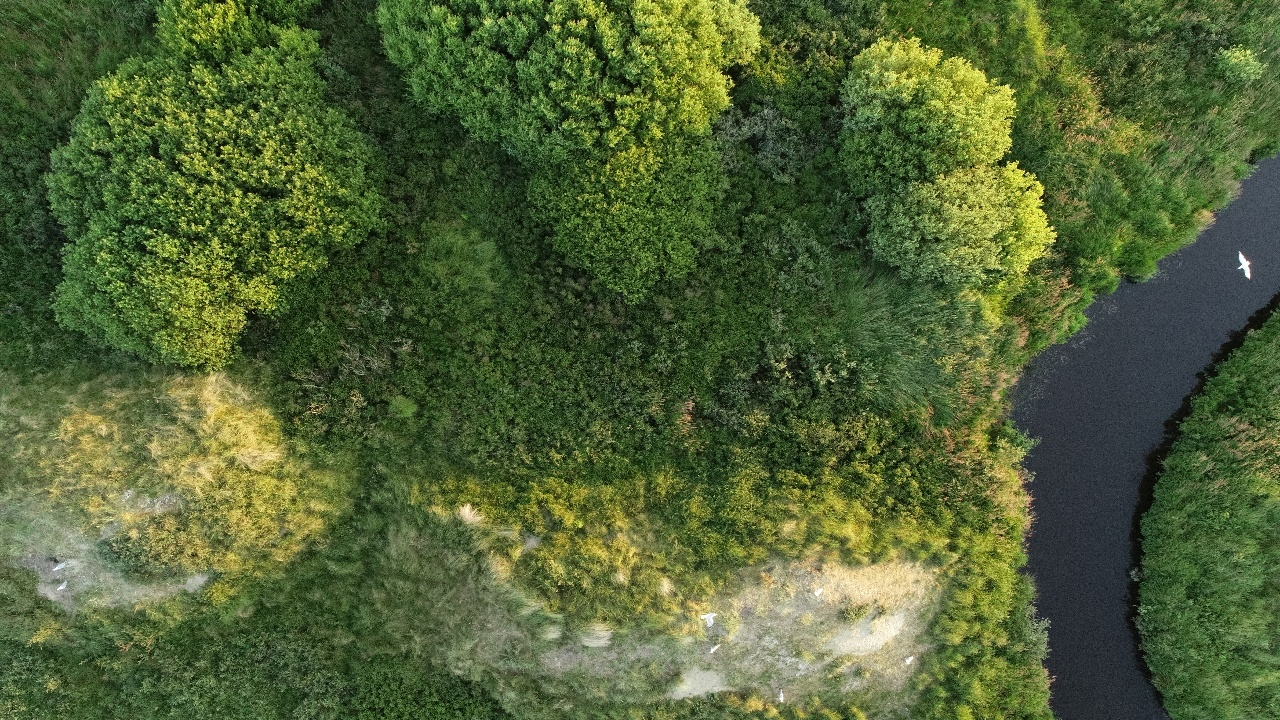Bird: (1228, 248, 1264, 281), (42, 552, 74, 580), (45, 572, 77, 600), (692, 605, 724, 633), (803, 579, 835, 607), (699, 631, 731, 659), (895, 647, 927, 675), (761, 681, 793, 709)
